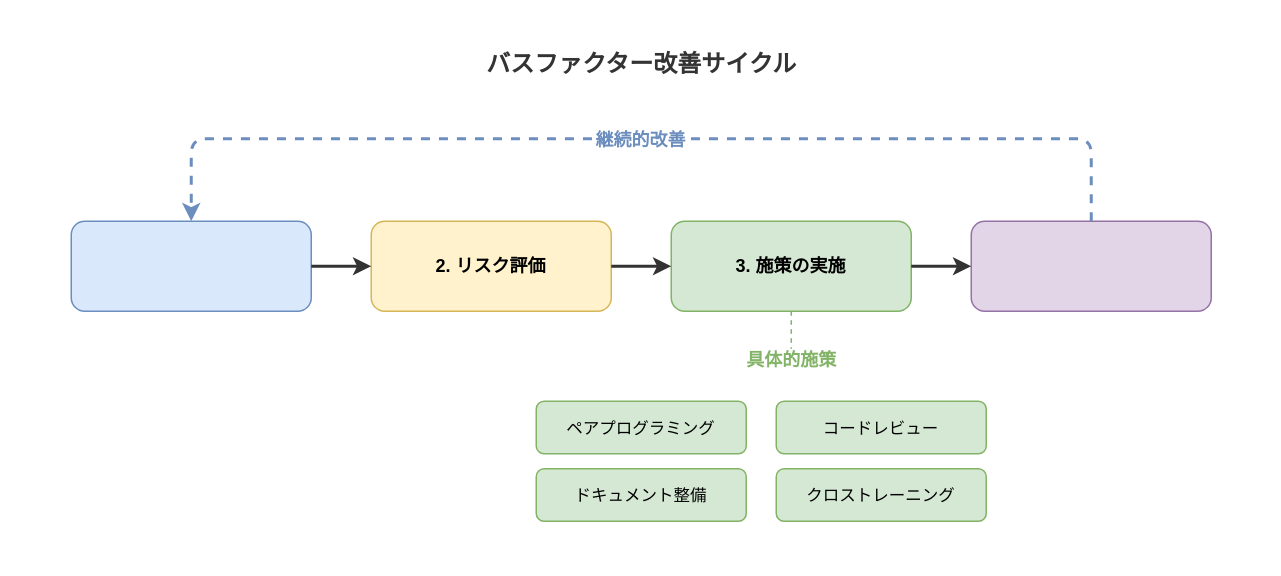
Image size: 1281x576. Some labels were removed from this diagram. The centre of each missing label's shape, as x and y in pixels:
"1. 知識マップ作成" belongs at [190,265].
"4. 効果測定" belongs at [1090,265].
